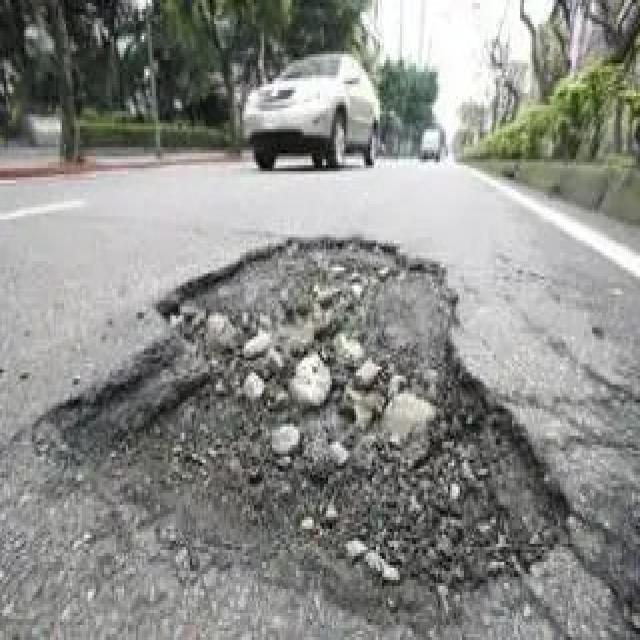Pothole: (25, 229, 587, 640)
